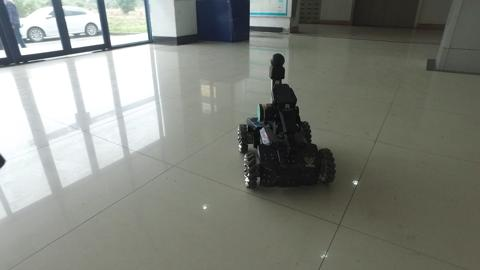car: (13, 5, 102, 41)
chariot: (236, 52, 336, 188)
